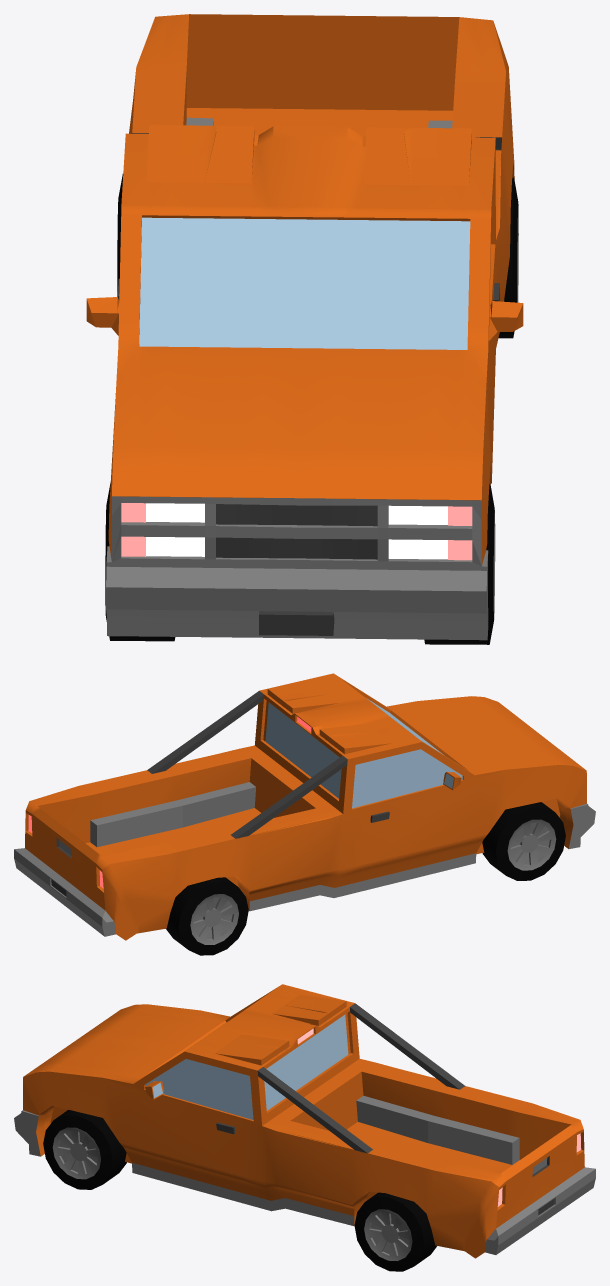
Rendered from low_poly_pick_up_car.glb.
3 renders of one model, top to bottom at view 1: azimuth 30°, elevation 25°; view 2: azimuth 150°, elevation 25°; view 3: azimuth 270°, elevation 25°, orthographic. The views are drawn at different scales.
Visible parts, largest first — view 1: Cube_0, Wheel.003_7, Wheel.002_6; view 2: Cube_0, Wheel.001_5, Wheel_4; view 3: Cube_0, Wheel.003_7, Wheel.002_6.
Boxes of the visible parts, x1,y1,x2,y2 form: Cube_0: (86,14,523,640); Wheel.003_7: (424,484,495,644); Wheel.002_6: (498,177,518,338); Cube_0: (14,673,595,940); Wheel.001_5: (482,802,565,880); Wheel_4: (166,877,248,955); Cube_0: (14,984,595,1258); Wheel.003_7: (43,1110,126,1189); Wheel.002_6: (354,1192,436,1271).
Size of the model in its own units: 3.94 by 1.61 by 5.01.
